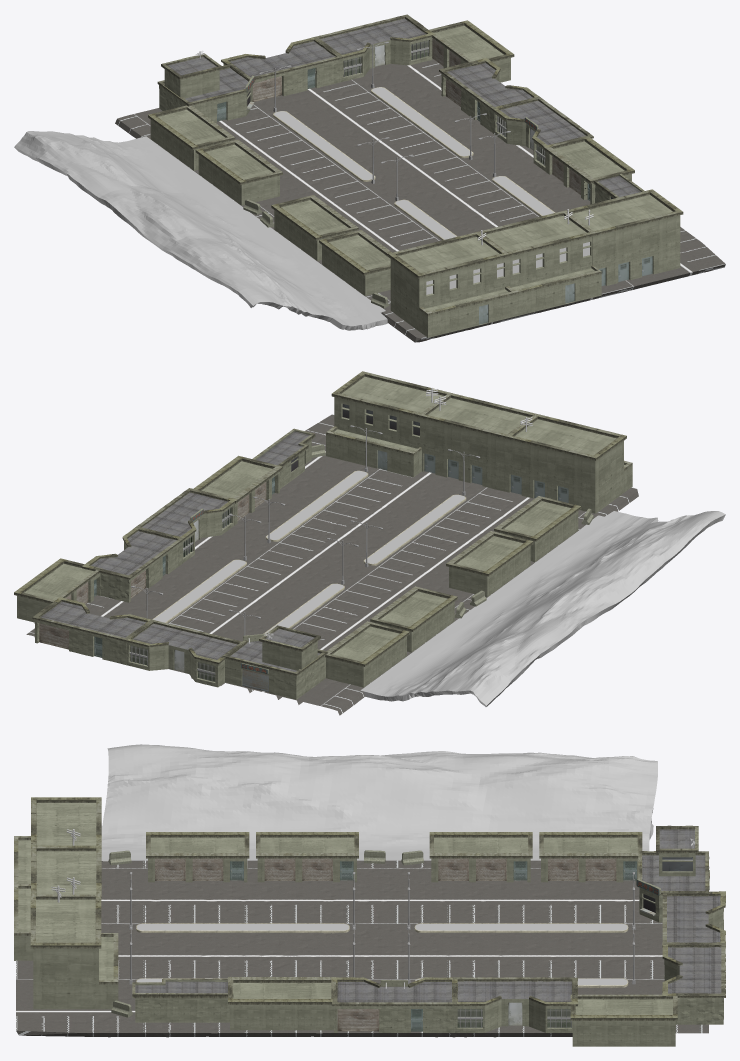
File: Parking_map.fbx
The picture shows the model from 3 angles, top to bottom: view 1: azimuth 30°, elevation 25°; view 2: azimuth 150°, elevation 25°; view 3: azimuth 270°, elevation 25°; orthographic projection. The views are drawn at different scales.
Parts seen in each view (by area): view 1: Plane.002; view 2: Plane.002; view 3: Plane.002.
Boxes of the visible parts, x1,y1,x2,y2 form: Plane.002: [14, 14, 725, 342]; Plane.002: [14, 371, 725, 715]; Plane.002: [14, 744, 725, 1046].
Bounding box in the file's own units: 67.22 × 11.28 × 77.88.
